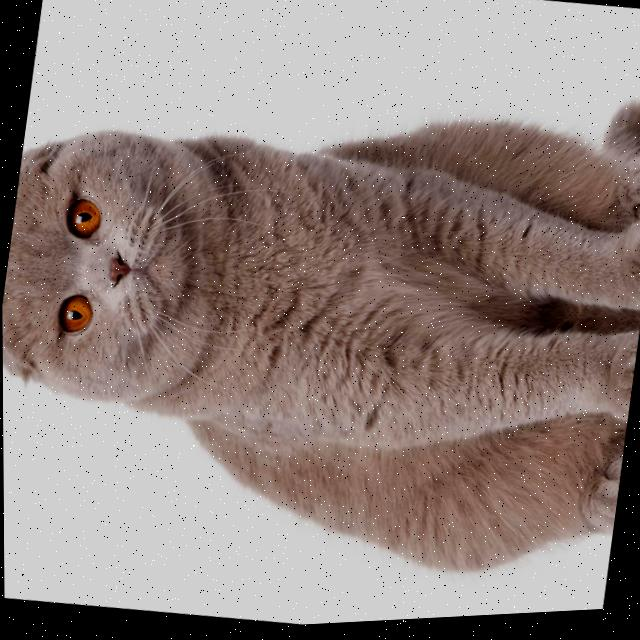Scottish Fold: (0, 17, 640, 624)
